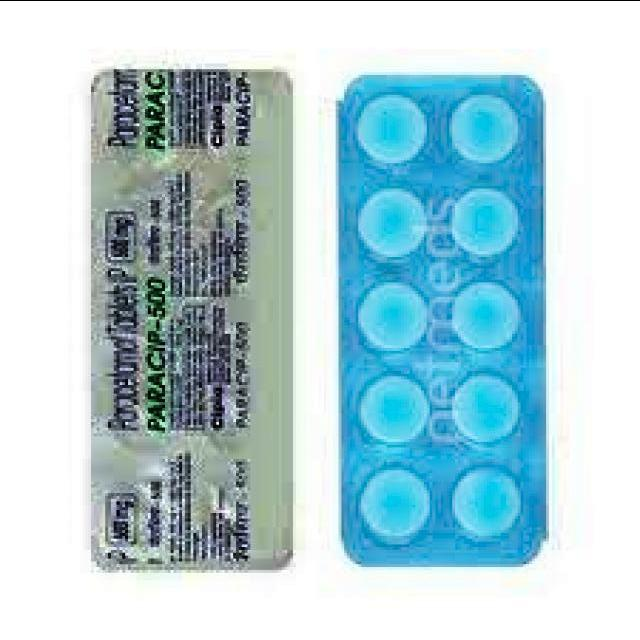authentic: (326, 58, 552, 582), (78, 60, 306, 579)
